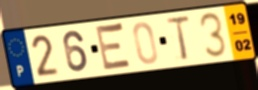0: (132, 20, 160, 66)
2: (30, 33, 62, 79)
3: (198, 11, 229, 60)
6: (62, 29, 91, 74)
E: (94, 21, 134, 73)
T: (164, 14, 193, 63)
